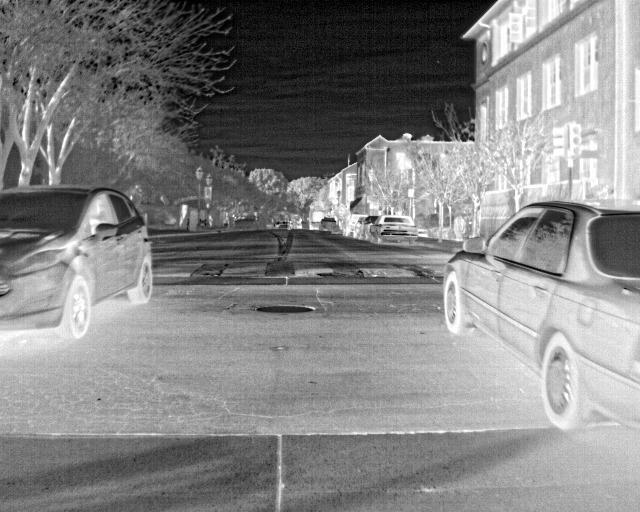car: (443, 200, 639, 436), (0, 182, 154, 341), (365, 212, 418, 246), (317, 216, 339, 235), (356, 216, 372, 239), (345, 216, 361, 237)
